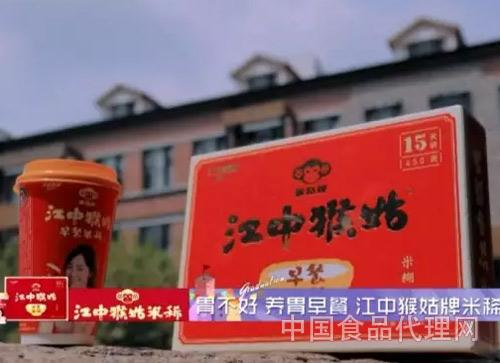box: (182, 112, 479, 355), (3, 274, 69, 321)
cup: (21, 158, 117, 347)
